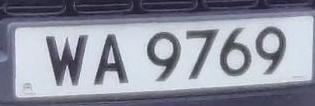6: (216, 22, 254, 83)
7: (180, 25, 223, 87)
9: (141, 27, 186, 89), (249, 20, 293, 79)
A: (89, 26, 133, 94)
W: (43, 27, 88, 92)
